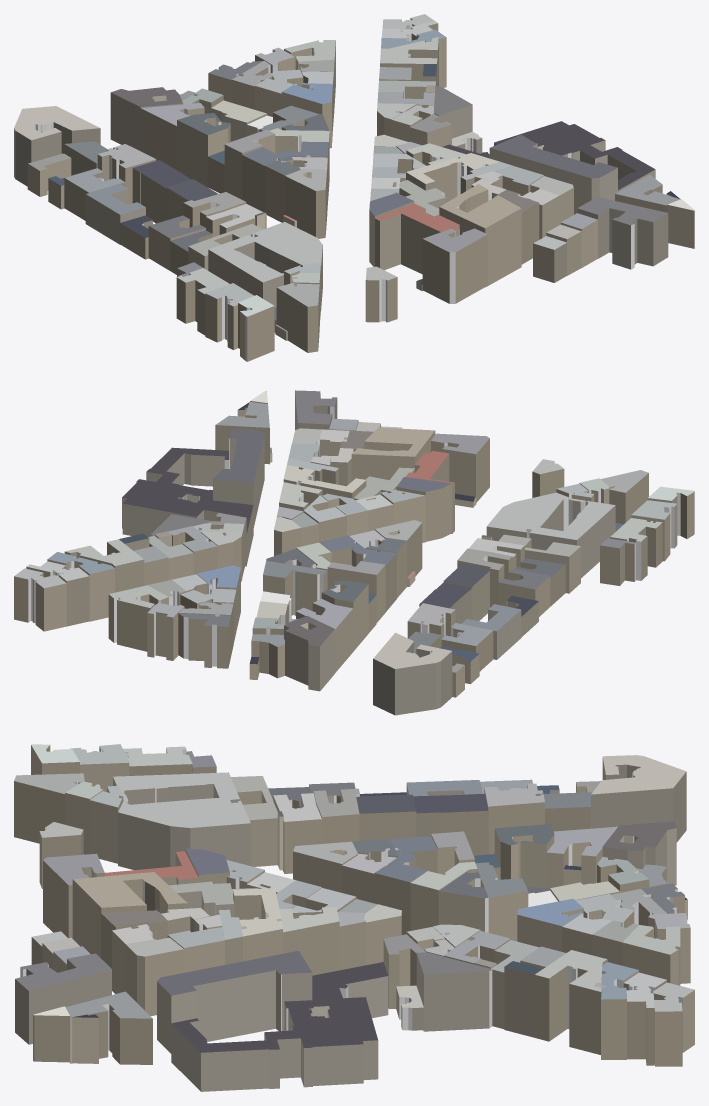
3 views of the same model, one above another, from view 1: azimuth 30°, elevation 25°; view 2: azimuth 150°, elevation 25°; view 3: azimuth 270°, elevation 25° (orthographic). The views are drawn at different scales.
Visible parts, largest first — view 1: tuile; view 2: tuile; view 3: tuile.
Boxes of the visible parts, x1,y1,x2,y2 form: tuile: [14, 14, 694, 361]; tuile: [14, 390, 694, 715]; tuile: [14, 744, 694, 1091].
Bounding box in the file's own units: 269 × 35.04 × 269.
